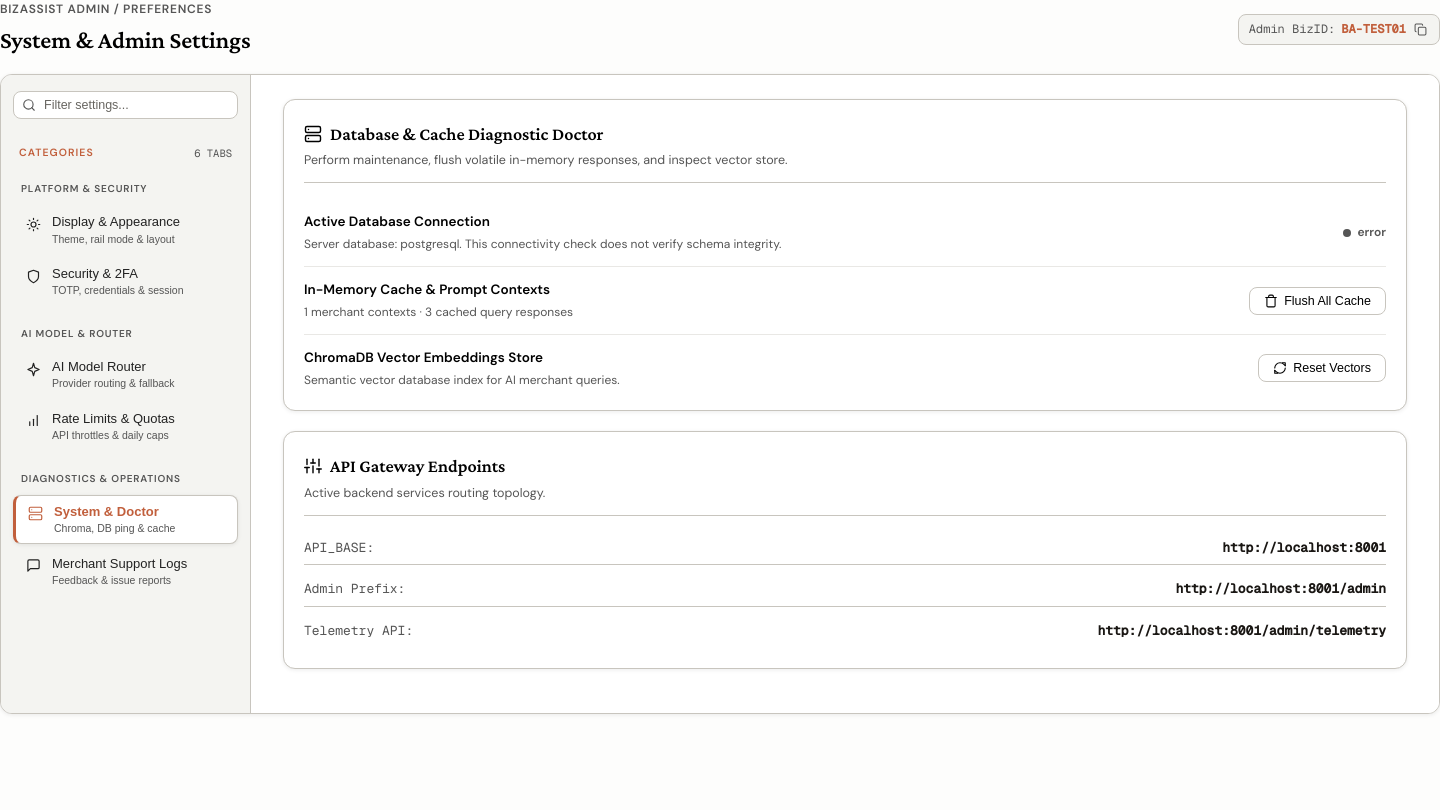
Test case: Admin settings API contracts › uses real health/cache fields and requires confirmation before a cache mutation
Expected: the text "Server database: postgresql" is shown, x1=304 y1=236 x2=781 y2=252
Expected: the text "error" is shown, x1=1344 y1=223 x2=1386 y2=242
Click the button "Flush All Cache": click(1318, 300) x1=1249 y1=286 x2=1386 y2=314
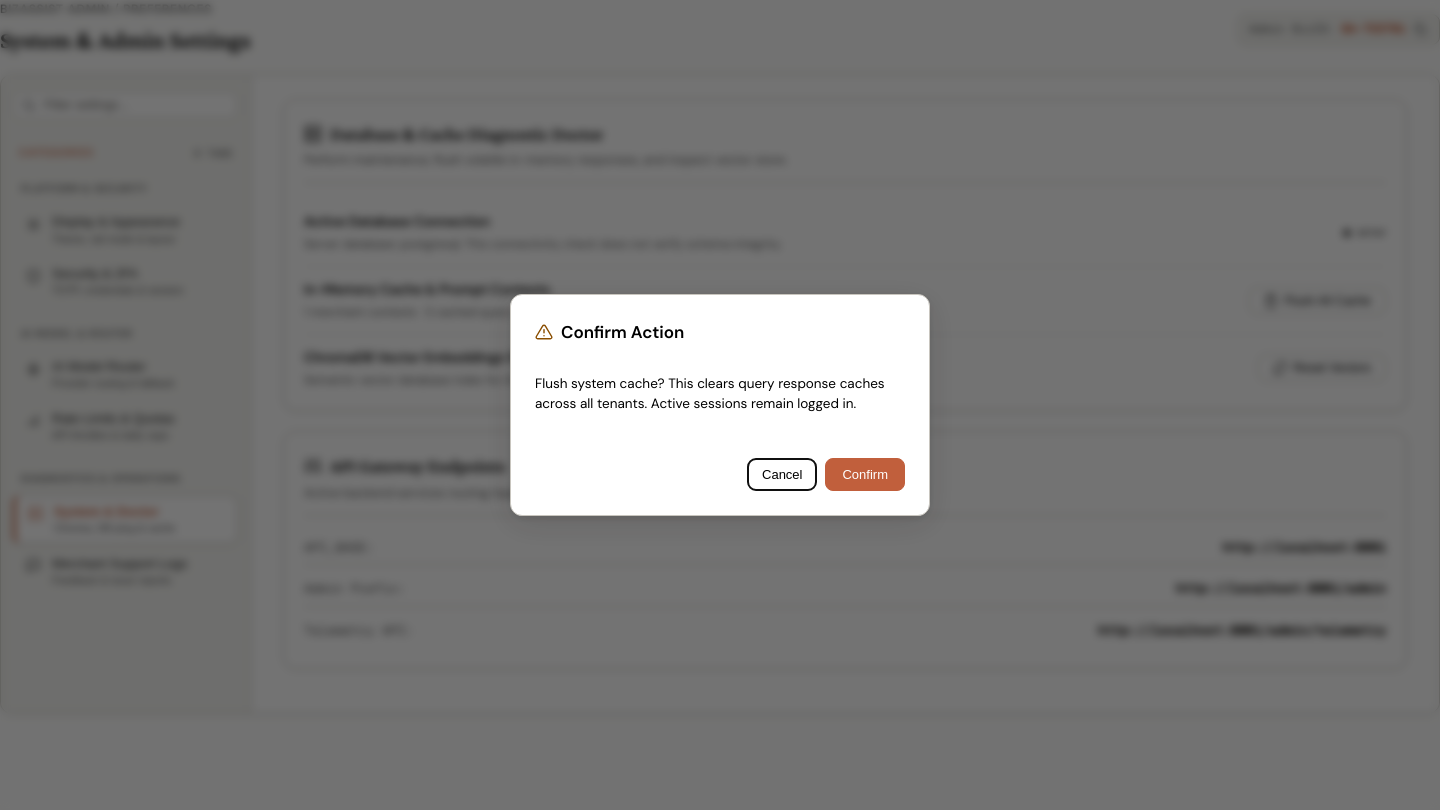
Expected: the dialog "Confirm Action" is shown, x1=510 y1=294 x2=930 y2=516
Click the button "Confirm": click(865, 475) x1=826 y1=458 x2=905 y2=491
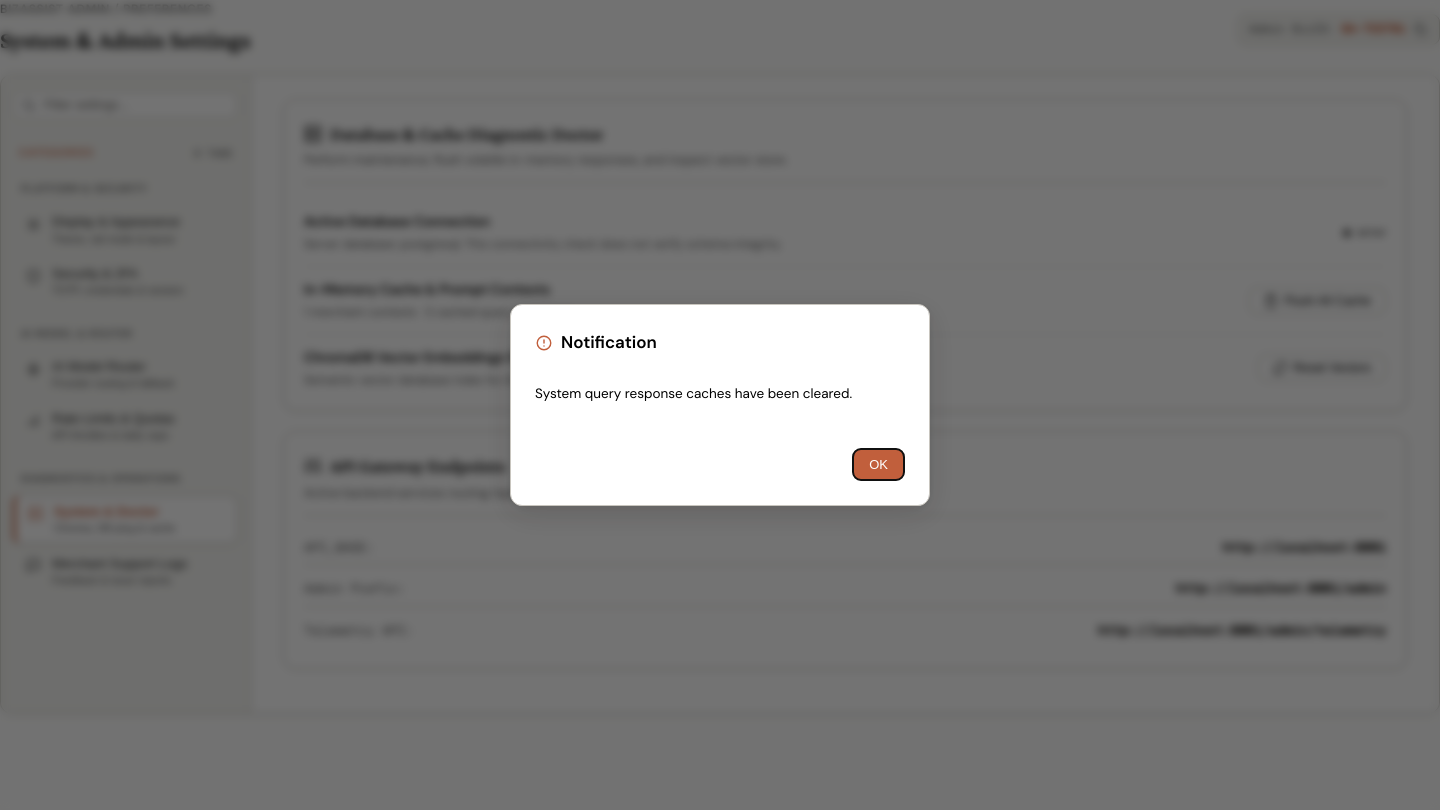
Expected: the text "System query response caches have been cleared." is shown, x1=535 y1=384 x2=905 y2=404
